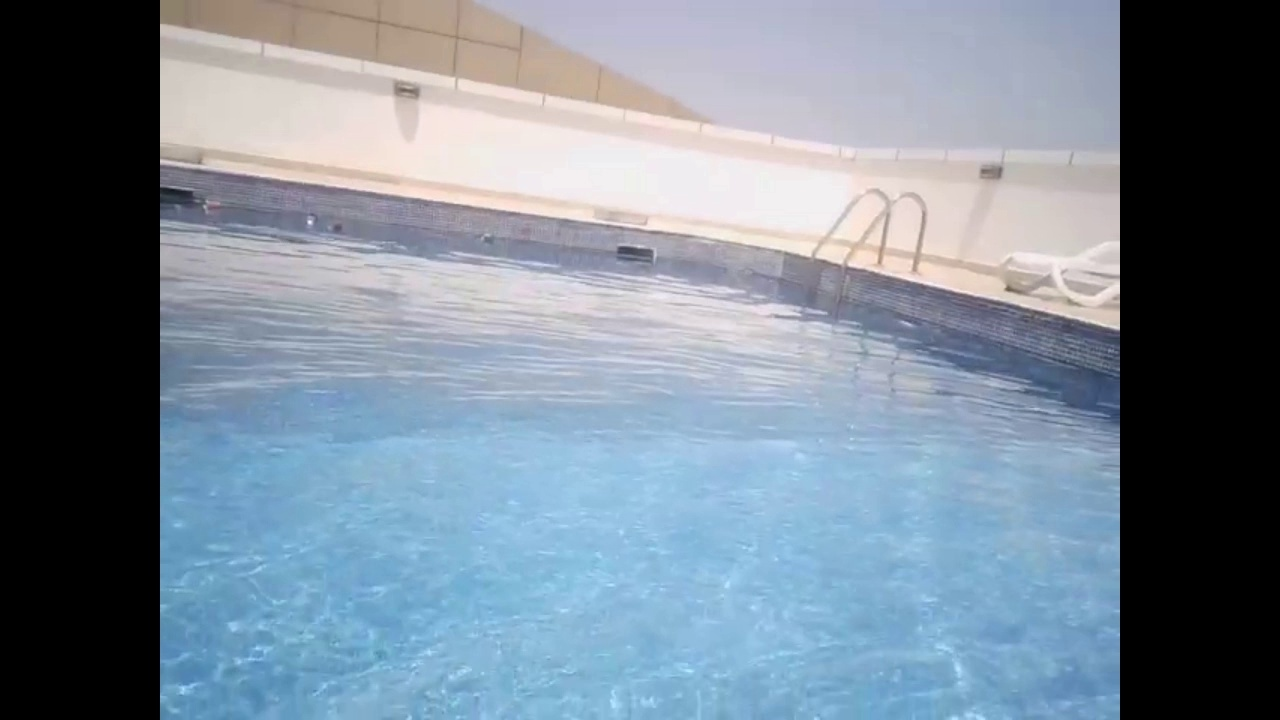debris: (198, 197, 223, 212), (325, 219, 346, 234), (301, 212, 318, 227), (478, 231, 494, 243)
